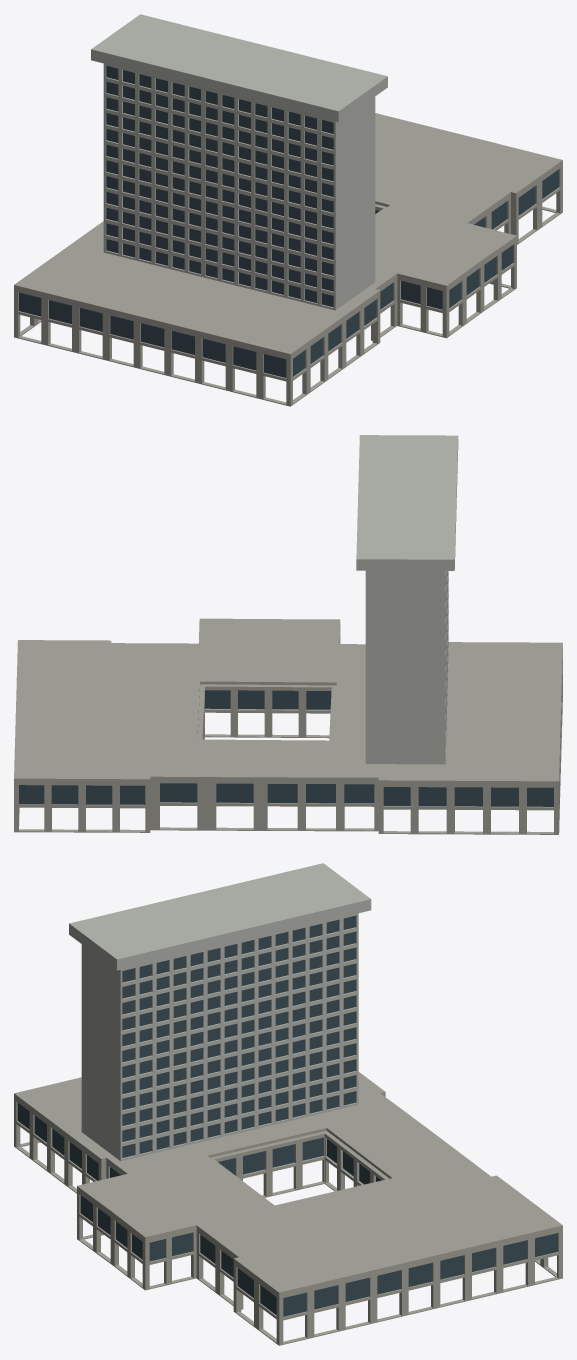
Rendered from hotel-de-ville-grenoble-near.glb.
The picture shows the model from 3 angles, top to bottom: view 1: azimuth 30°, elevation 25°; view 2: azimuth 150°, elevation 25°; view 3: azimuth 270°, elevation 25°; orthographic projection. The views are drawn at different scales.
Visible parts, largest first — view 1: hotel-de-ville-grenoble-0-stone, hotel-de-ville-grenoble-0-trim, hotel-de-ville-grenoble-0-glass; view 2: hotel-de-ville-grenoble-0-stone, hotel-de-ville-grenoble-0-trim, hotel-de-ville-grenoble-0-glass; view 3: hotel-de-ville-grenoble-0-stone, hotel-de-ville-grenoble-0-trim, hotel-de-ville-grenoble-0-glass.
Boxes of the visible parts, bbox=[...] form: hotel-de-ville-grenoble-0-stone: bbox=[14, 113, 562, 406]; hotel-de-ville-grenoble-0-trim: bbox=[91, 14, 387, 310]; hotel-de-ville-grenoble-0-glass: bbox=[19, 66, 558, 377]; hotel-de-ville-grenoble-0-stone: bbox=[14, 618, 562, 834]; hotel-de-ville-grenoble-0-trim: bbox=[356, 435, 458, 764]; hotel-de-ville-grenoble-0-glass: bbox=[19, 690, 553, 806]; hotel-de-ville-grenoble-0-stone: bbox=[14, 1072, 562, 1345]; hotel-de-ville-grenoble-0-trim: bbox=[69, 863, 371, 1161]; hotel-de-ville-grenoble-0-glass: bbox=[17, 915, 557, 1316].
Bounding box in the file's own units: 102 × 46.5 × 88.89.
